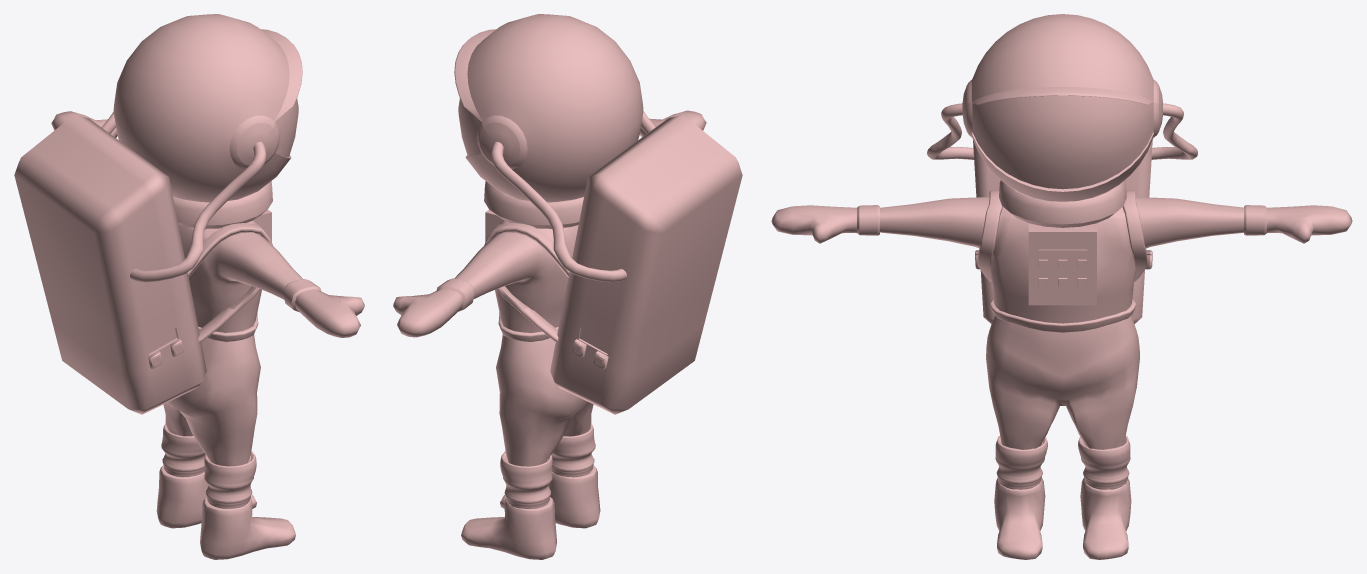
The model's file is SPACE FOOD EXPLORER ASTRONAUT.fbx.
3 views of the same model, side by side, from view 1: azimuth 30°, elevation 25°; view 2: azimuth 150°, elevation 25°; view 3: azimuth 270°, elevation 25° (orthographic).
Parts seen in each view (by area): view 1: pCube2, pSphere1, pCube1, pCube4, pCylinder3, pCube3, pTorus1, pCylinder1, pCylinder2; view 2: pCube2, pSphere1, pCube1, pCube4, pCylinder3, pCube3, pTorus1, pCylinder1, pCylinder2; view 3: pCube1, pSphere1, pCube4, pCube3, pCube5, pCylinder3, pCylinder1, pCube2, pTorus1, pCylinder2.
Boxes of the visible parts, box(x1,y1,x2,y2) form: pCube2: box(14, 115, 206, 414); pSphere1: box(113, 14, 302, 202); pCube1: box(163, 220, 302, 466); pCube4: box(156, 465, 295, 559); pCylinder3: box(161, 423, 256, 508); pCube3: box(51, 111, 364, 337); pTorus1: box(101, 112, 266, 282); pCylinder1: box(173, 181, 272, 228); pCylinder2: box(187, 223, 272, 342); pCube2: box(550, 114, 742, 414); pSphere1: box(454, 14, 643, 202); pCube1: box(454, 220, 593, 466); pCube4: box(461, 465, 600, 559); pCylinder3: box(500, 423, 595, 508); pCube3: box(393, 110, 706, 337); pTorus1: box(491, 111, 655, 282); pCylinder1: box(484, 181, 583, 228); pCylinder2: box(484, 223, 569, 342); pCube1: box(880, 196, 1243, 449); pSphere1: box(962, 14, 1162, 201); pCube4: box(994, 478, 1131, 559); pCube3: box(771, 205, 1352, 243); pCube5: box(1028, 223, 1096, 305); pCylinder3: box(995, 435, 1130, 489); pCylinder1: box(999, 180, 1126, 227); pCube2: box(973, 140, 1152, 323); pTorus1: box(927, 103, 1197, 159); pCylinder2: box(977, 190, 1147, 281).
Size of the model in its own units: 2.43 by 5.1 by 5.26.
